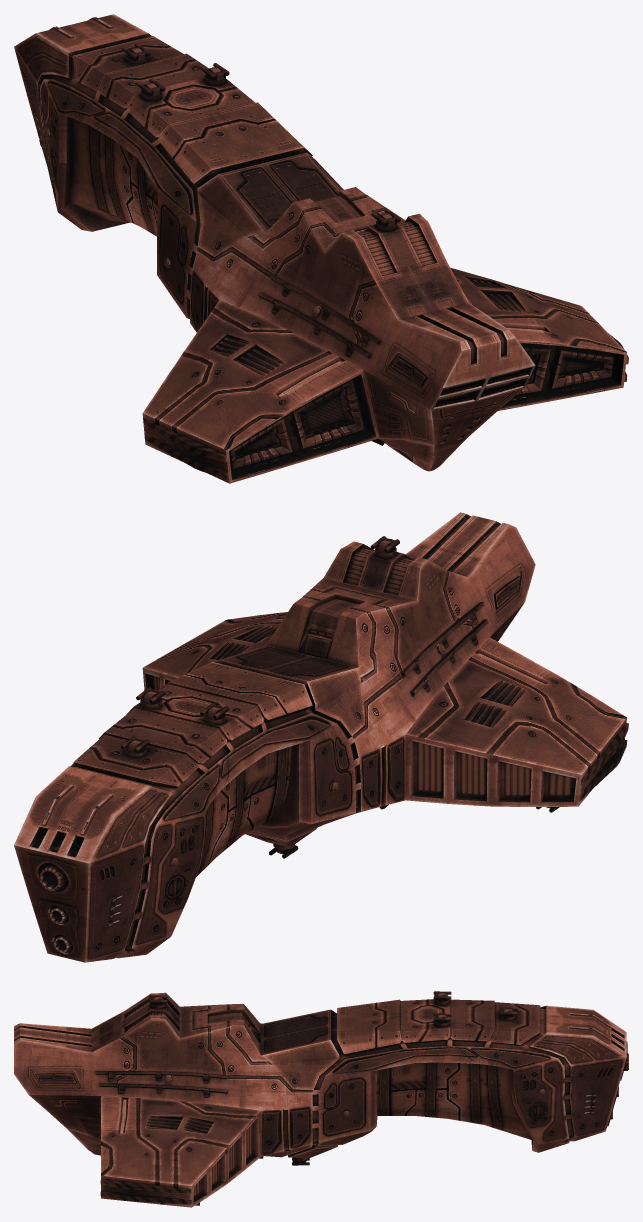
Rendered from harlock.glb.
The picture shows the model from 3 angles, top to bottom: view 1: azimuth 30°, elevation 25°; view 2: azimuth 150°, elevation 25°; view 3: azimuth 270°, elevation 25°; orthographic projection. The views are drawn at different scales.
Parts seen in each view (by area): view 1: detail0; view 2: detail0, turret17; view 3: detail0.
Boxes of the visible parts, bbox=[...] form: detail0: bbox=[14, 14, 628, 483]; detail0: bbox=[14, 512, 628, 962]; turret17: bbox=[39, 863, 72, 952]; detail0: bbox=[14, 992, 627, 1207].
Size of the model in its own units: 16.38 by 8.42 by 28.37.
Materials: 1 (1 with a texture image).
